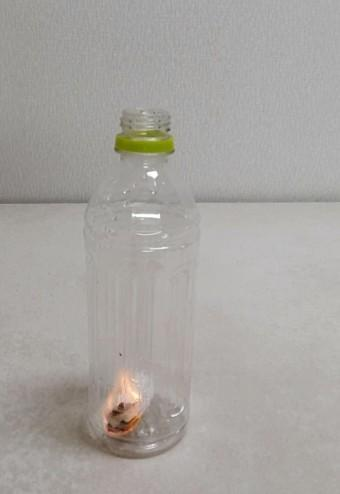bottle: (84, 110, 188, 458)
